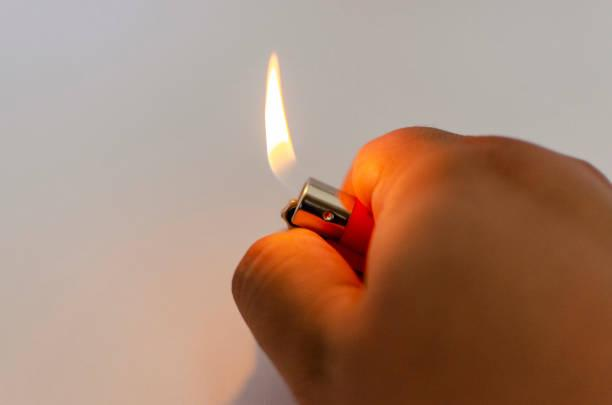Fire: (258, 49, 302, 184)
